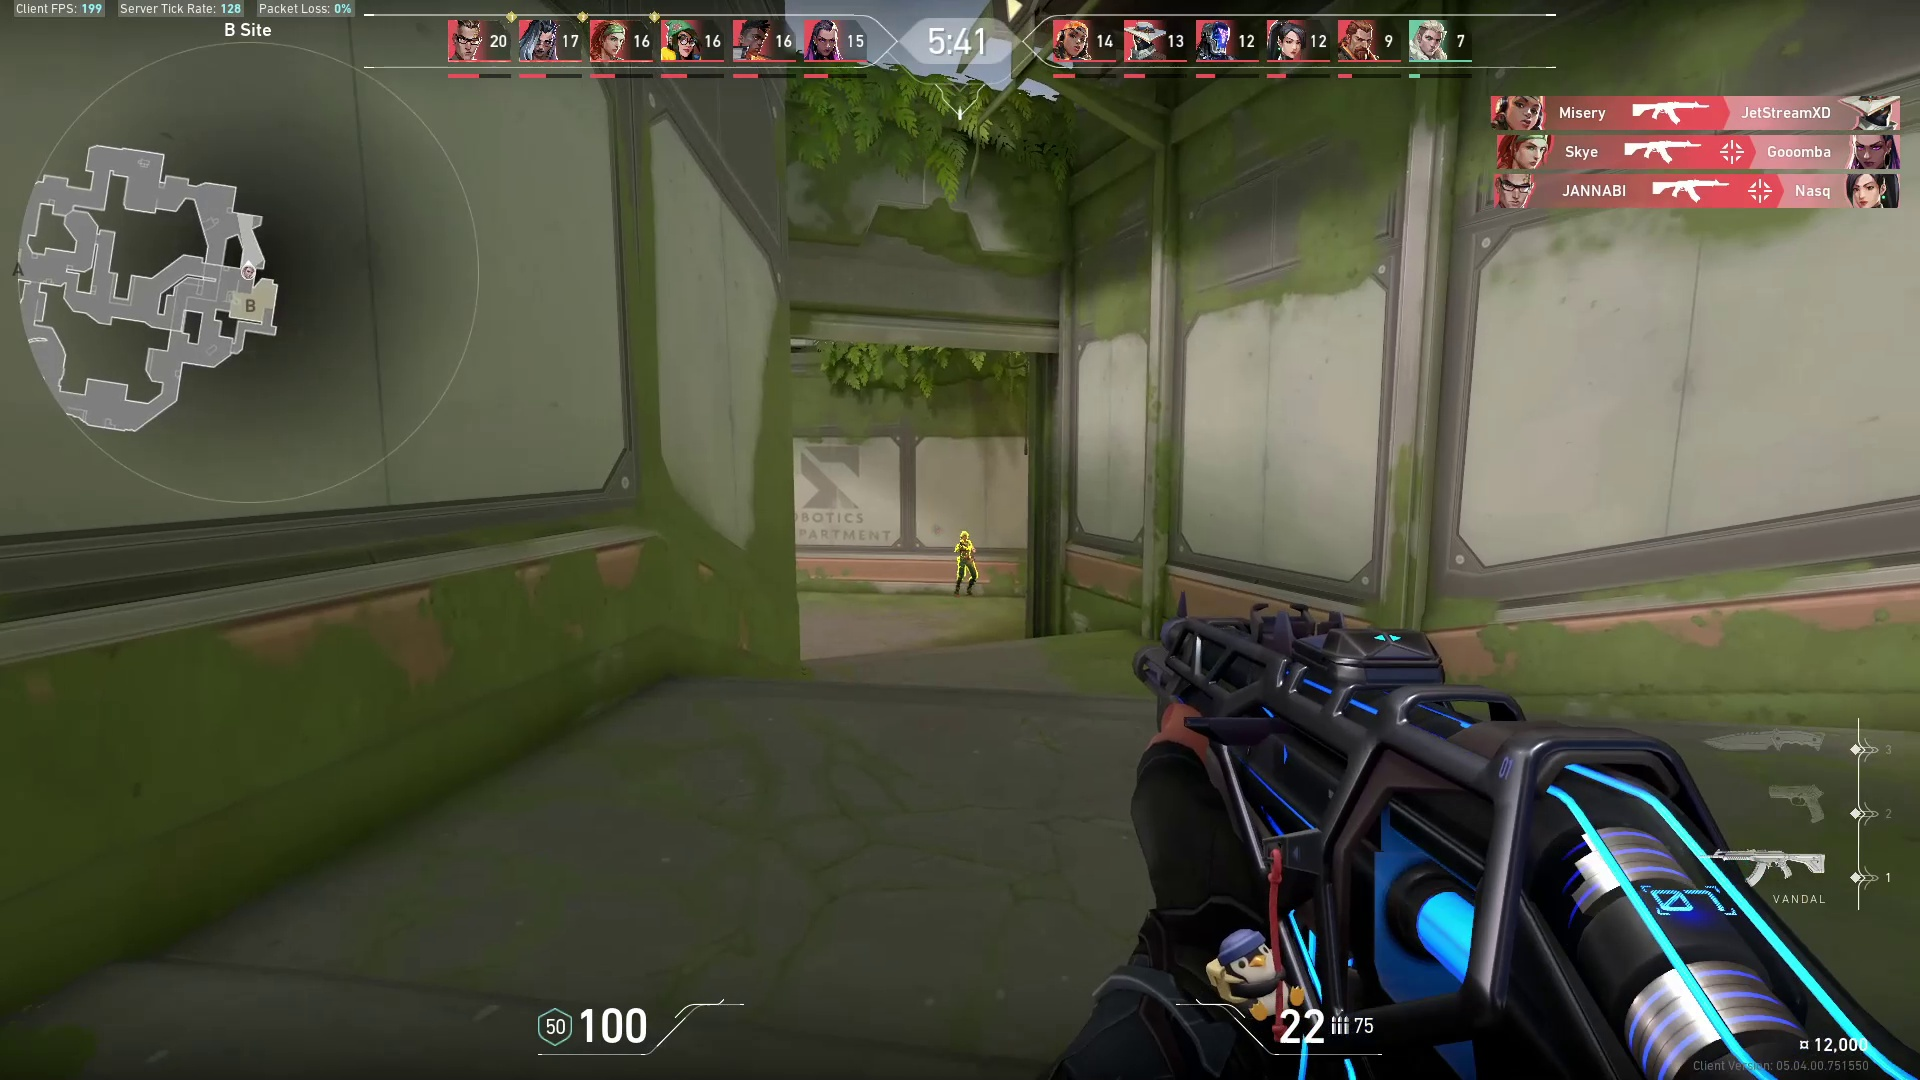enemy_body: (951, 542, 983, 600)
enemy_head: (957, 528, 971, 543)
